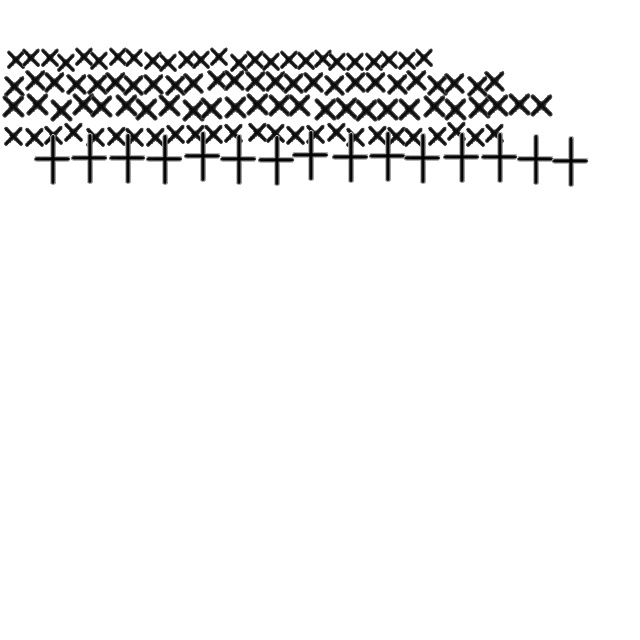double: (68, 133, 110, 185), (106, 133, 148, 185), (366, 131, 408, 183), (440, 132, 482, 184), (478, 132, 520, 184), (514, 134, 556, 186), (32, 134, 72, 186), (144, 134, 184, 186), (182, 131, 222, 183), (218, 134, 258, 186), (256, 135, 296, 187), (290, 130, 330, 182), (330, 132, 370, 184), (402, 133, 442, 185), (550, 136, 590, 188), (156, 90, 184, 120), (222, 92, 250, 122), (266, 90, 294, 120), (286, 90, 314, 120), (312, 94, 340, 124), (374, 94, 402, 124), (396, 94, 424, 124), (442, 94, 470, 124), (466, 92, 494, 122), (484, 90, 512, 120), (528, 90, 556, 120), (0, 92, 28, 120), (24, 90, 52, 118), (48, 96, 76, 124), (70, 90, 98, 118), (88, 92, 116, 120), (180, 96, 208, 124), (198, 94, 226, 122), (244, 90, 272, 118), (506, 90, 534, 118), (114, 90, 140, 120), (134, 94, 160, 124), (2, 72, 28, 100), (42, 68, 68, 96), (64, 70, 90, 98), (222, 66, 248, 94), (404, 66, 430, 94), (334, 94, 360, 122), (354, 96, 380, 124), (422, 92, 448, 120), (322, 72, 348, 98), (442, 70, 468, 96), (482, 68, 508, 94), (24, 66, 48, 94), (86, 70, 110, 98), (104, 68, 128, 96), (142, 70, 166, 98), (206, 66, 230, 94), (302, 68, 326, 96), (344, 68, 368, 96), (364, 68, 388, 96), (386, 70, 410, 98), (466, 72, 490, 100), (122, 72, 146, 98), (164, 72, 188, 98), (182, 70, 206, 96), (244, 68, 268, 94), (264, 68, 288, 94), (282, 70, 306, 96), (426, 72, 450, 98), (42, 122, 66, 148), (84, 124, 108, 150), (144, 124, 168, 150), (222, 120, 246, 146), (264, 120, 288, 146), (284, 122, 308, 148), (344, 124, 368, 150), (366, 122, 390, 148), (402, 124, 426, 150), (464, 124, 488, 150), (2, 124, 26, 148), (62, 120, 86, 144), (164, 122, 188, 146), (184, 122, 208, 146), (202, 122, 226, 146), (246, 120, 270, 144), (304, 122, 328, 146), (426, 124, 450, 148), (24, 124, 46, 150), (124, 124, 146, 150), (446, 118, 468, 144), (484, 120, 506, 146), (5, 47, 27, 71), (20, 45, 42, 69), (39, 45, 61, 69), (55, 50, 77, 74), (73, 44, 95, 68), (88, 48, 110, 72), (107, 44, 129, 68), (123, 45, 145, 69), (142, 48, 164, 72), (157, 50, 179, 74), (176, 47, 198, 71), (190, 47, 212, 71), (208, 44, 230, 68), (228, 50, 250, 74), (244, 47, 266, 71), (260, 49, 282, 73), (278, 47, 300, 71), (295, 48, 317, 72), (312, 46, 334, 70), (326, 49, 348, 73), (344, 49, 366, 73), (363, 49, 385, 73), (378, 47, 400, 71), (396, 48, 418, 72), (413, 45, 435, 69), (106, 124, 128, 148), (326, 120, 348, 144), (386, 124, 408, 148)
